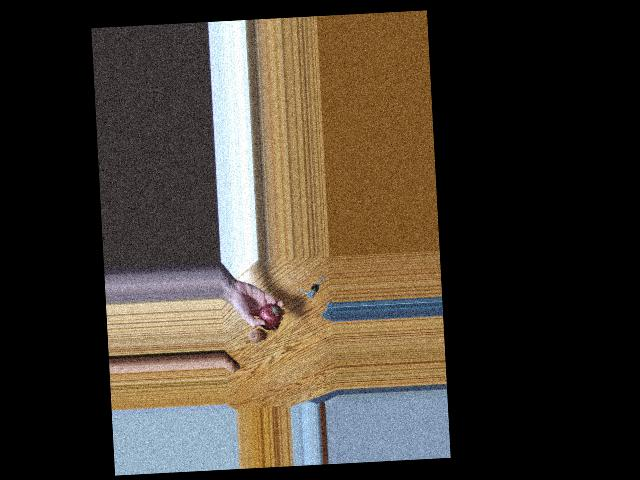onion: (259, 303, 282, 326)
